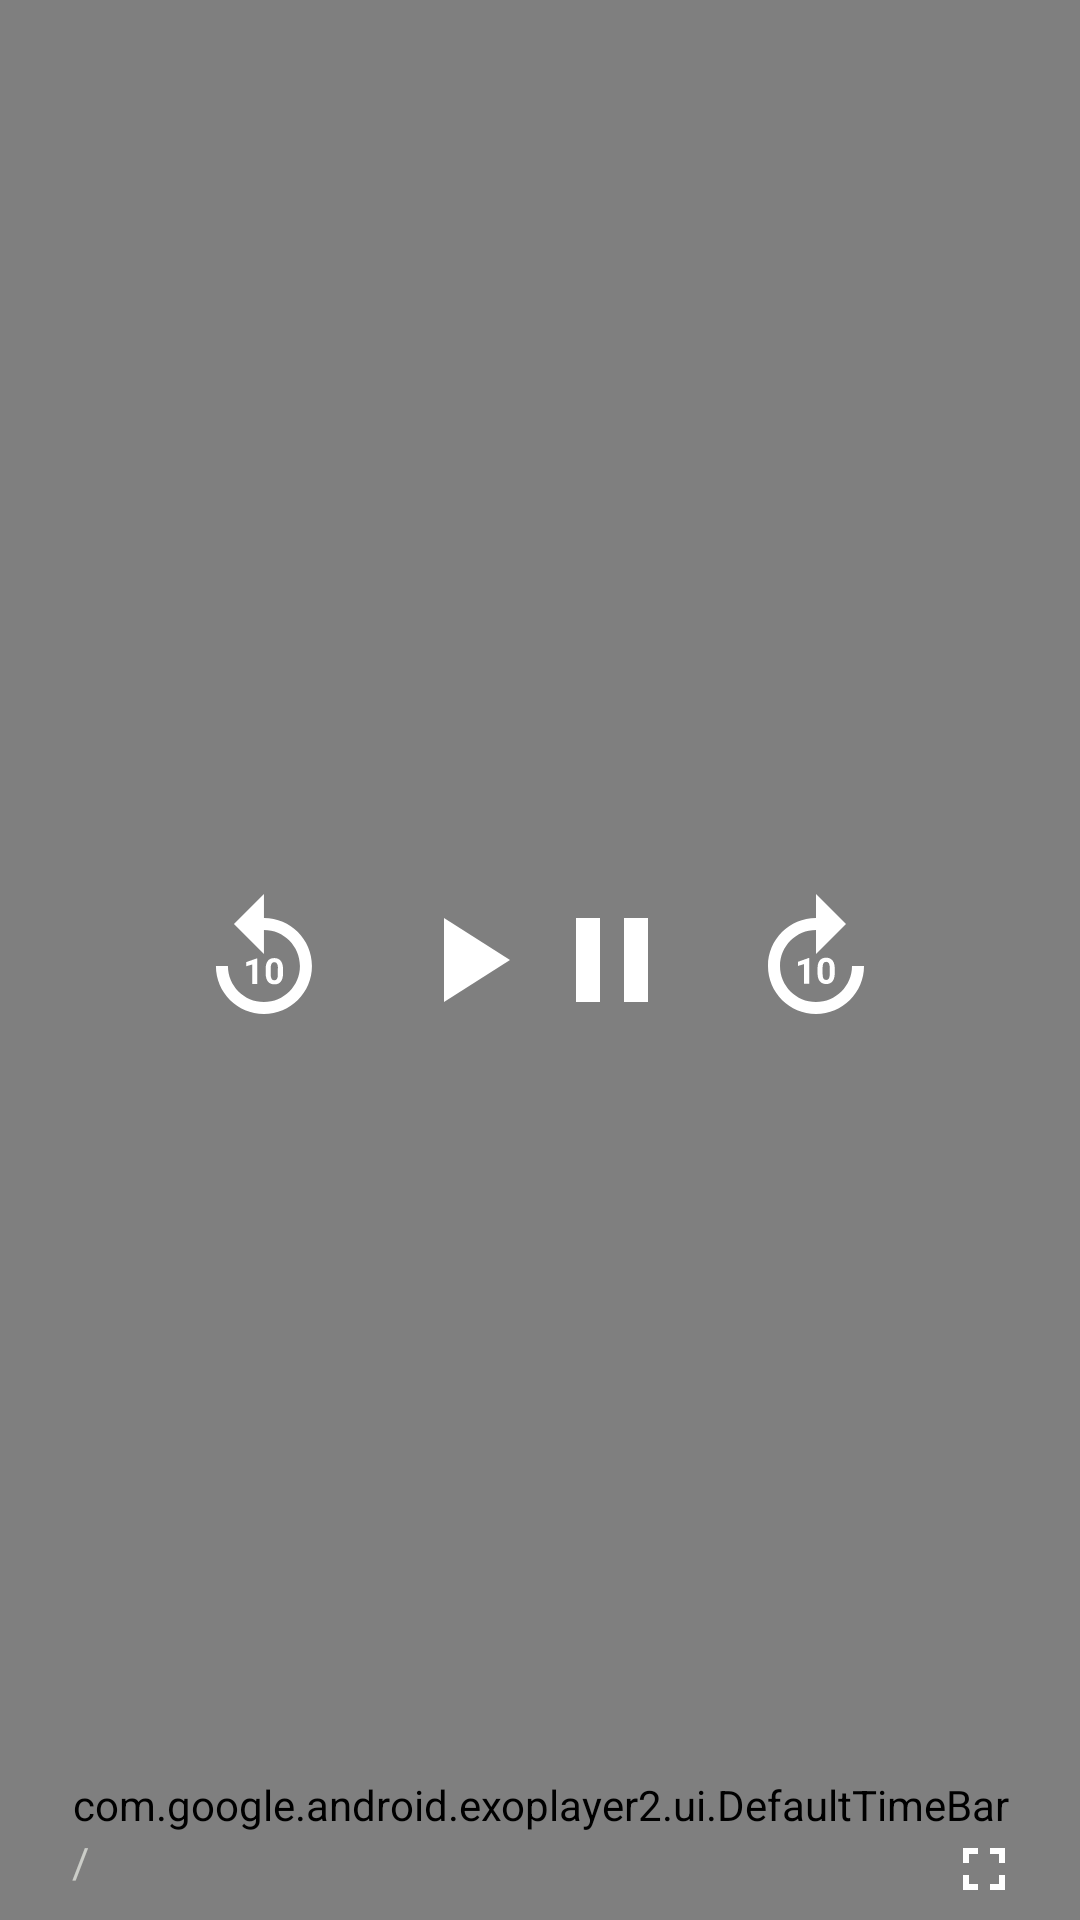

Screen size 1080x1920. Icon name, then its box in pixels as [x1, y1, x2, y2]:
backward: [216, 894, 312, 1014]
forward: [768, 894, 864, 1014]
fullscreen: [963, 1848, 1005, 1890]
pause: [576, 918, 648, 1002]
play: [444, 918, 510, 1002]
